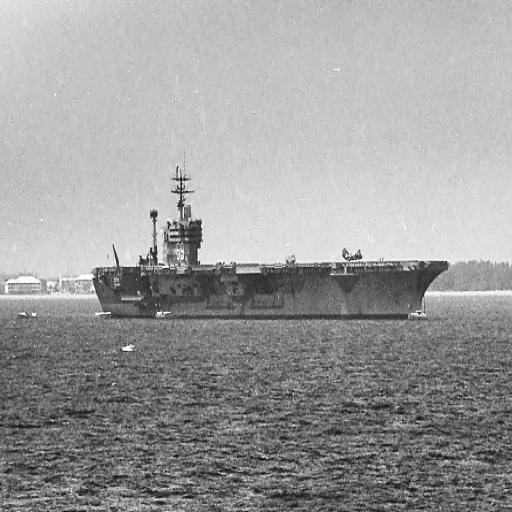Portanaves: (90, 155, 453, 322)
